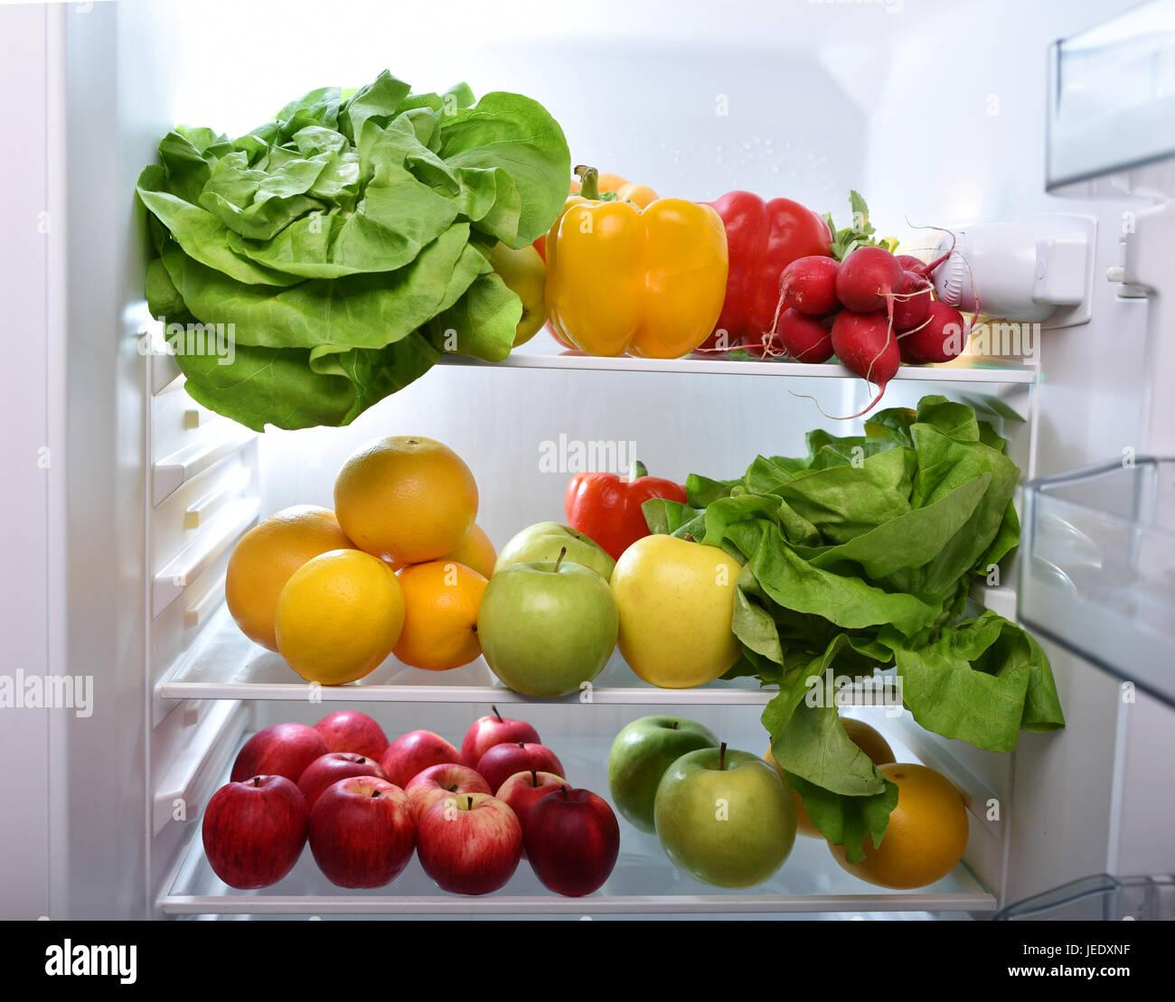apple: (217, 711, 629, 907)
bell pepper: (559, 176, 719, 386)
spinach: (701, 429, 1040, 731)
spinaxh: (136, 74, 572, 386)
